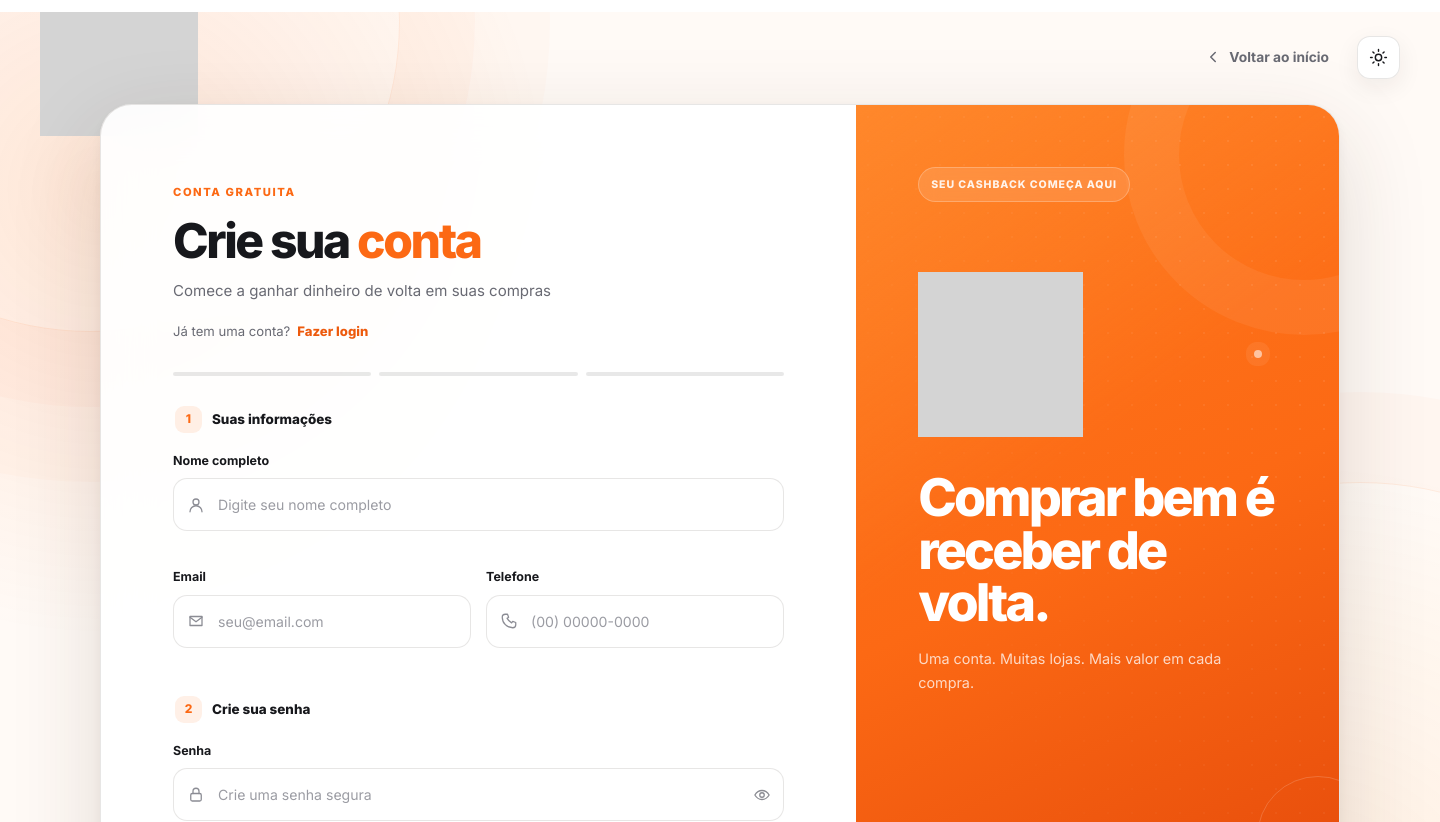
experiência de cadastro › permite mostrar e ocultar a senha
Step 1. Click the button named "Mostrar senha" → (762, 795), box x1=740 y1=774 x2=783 y2=816
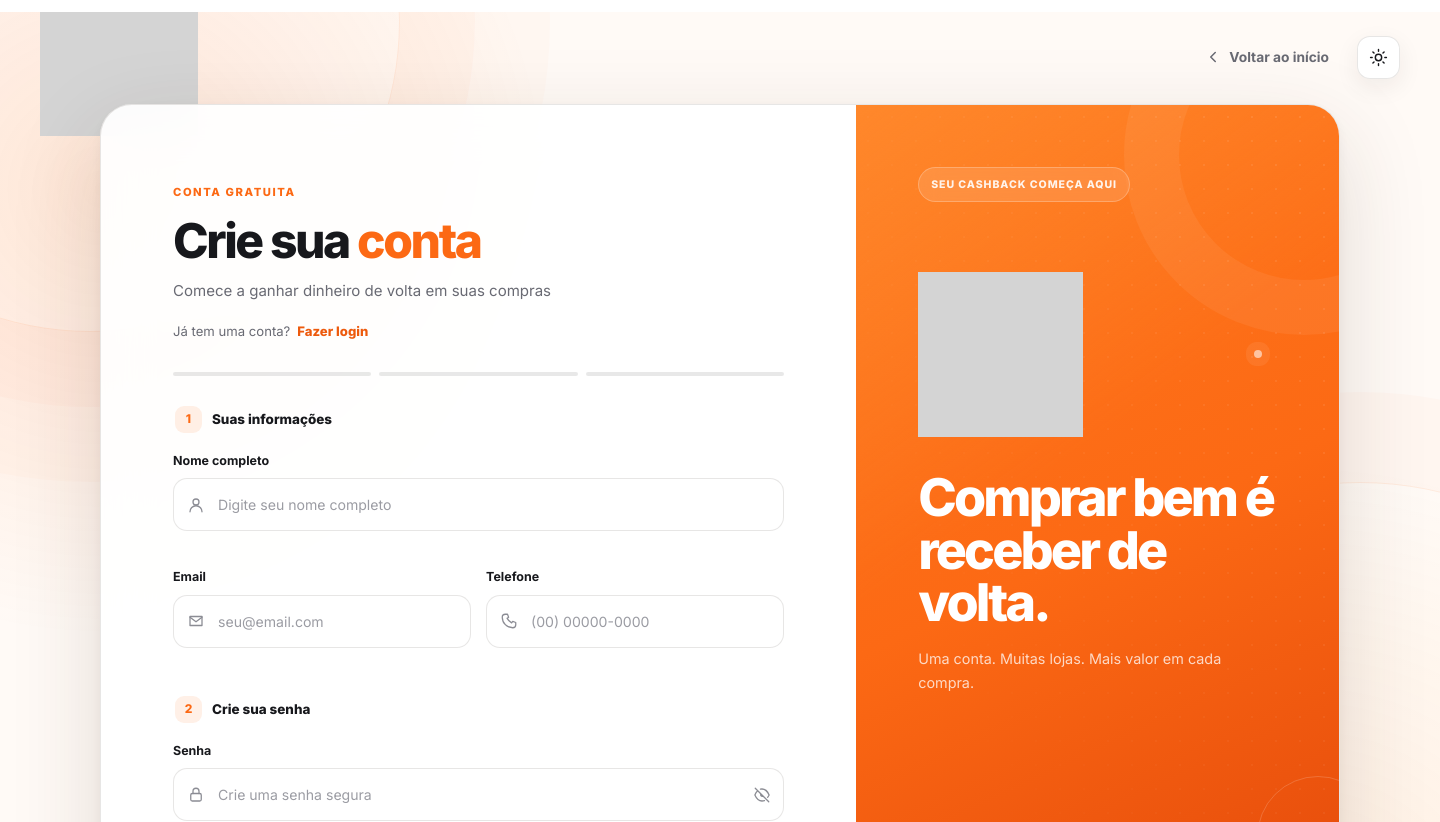
expect the button named "Ocultar senha" is shown: met, box x1=740 y1=774 x2=783 y2=816
